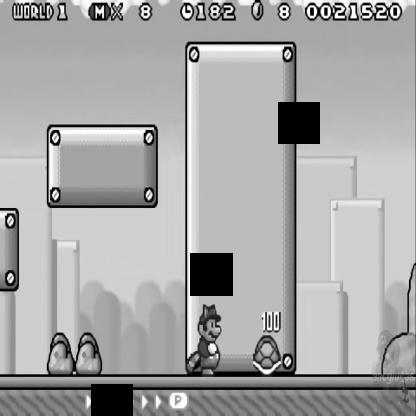Mario: (183, 299, 223, 382)
caparazon: (252, 324, 283, 381)
